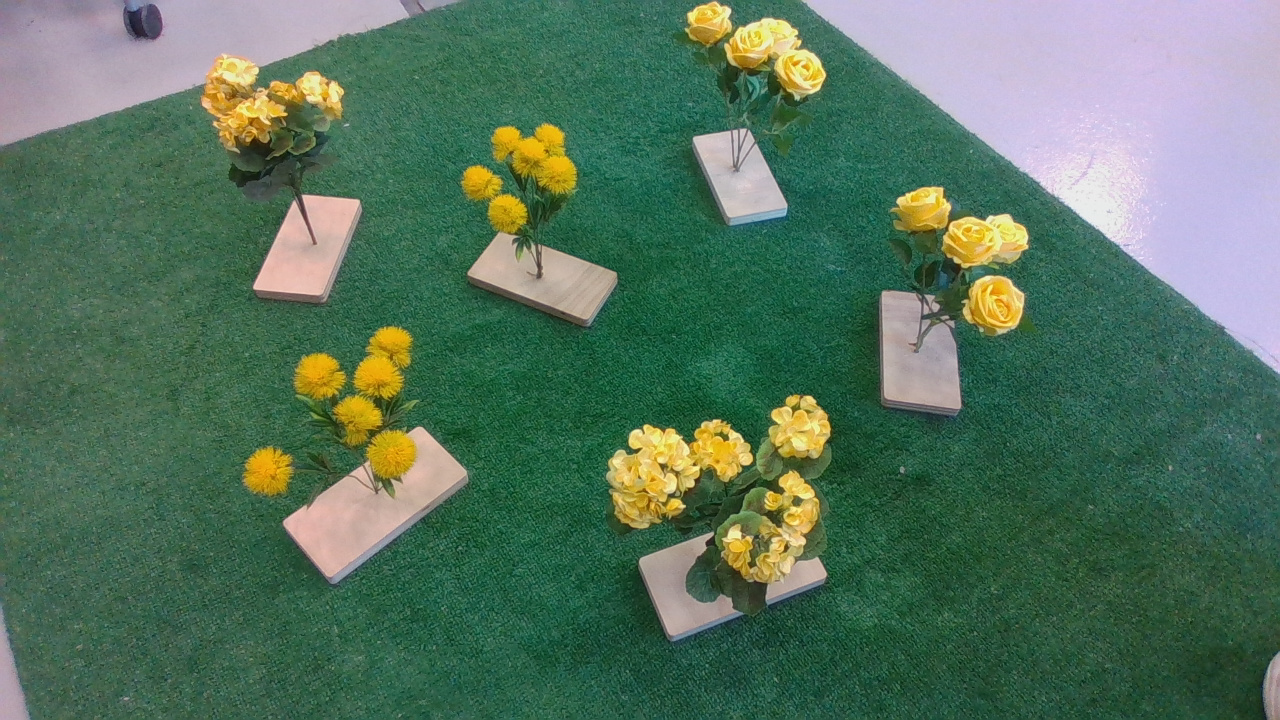dandelion: (236, 327, 438, 509), (464, 114, 591, 254)
geranium: (601, 392, 847, 624), (195, 48, 362, 205)
rose: (875, 184, 1043, 356), (677, 6, 841, 163)
